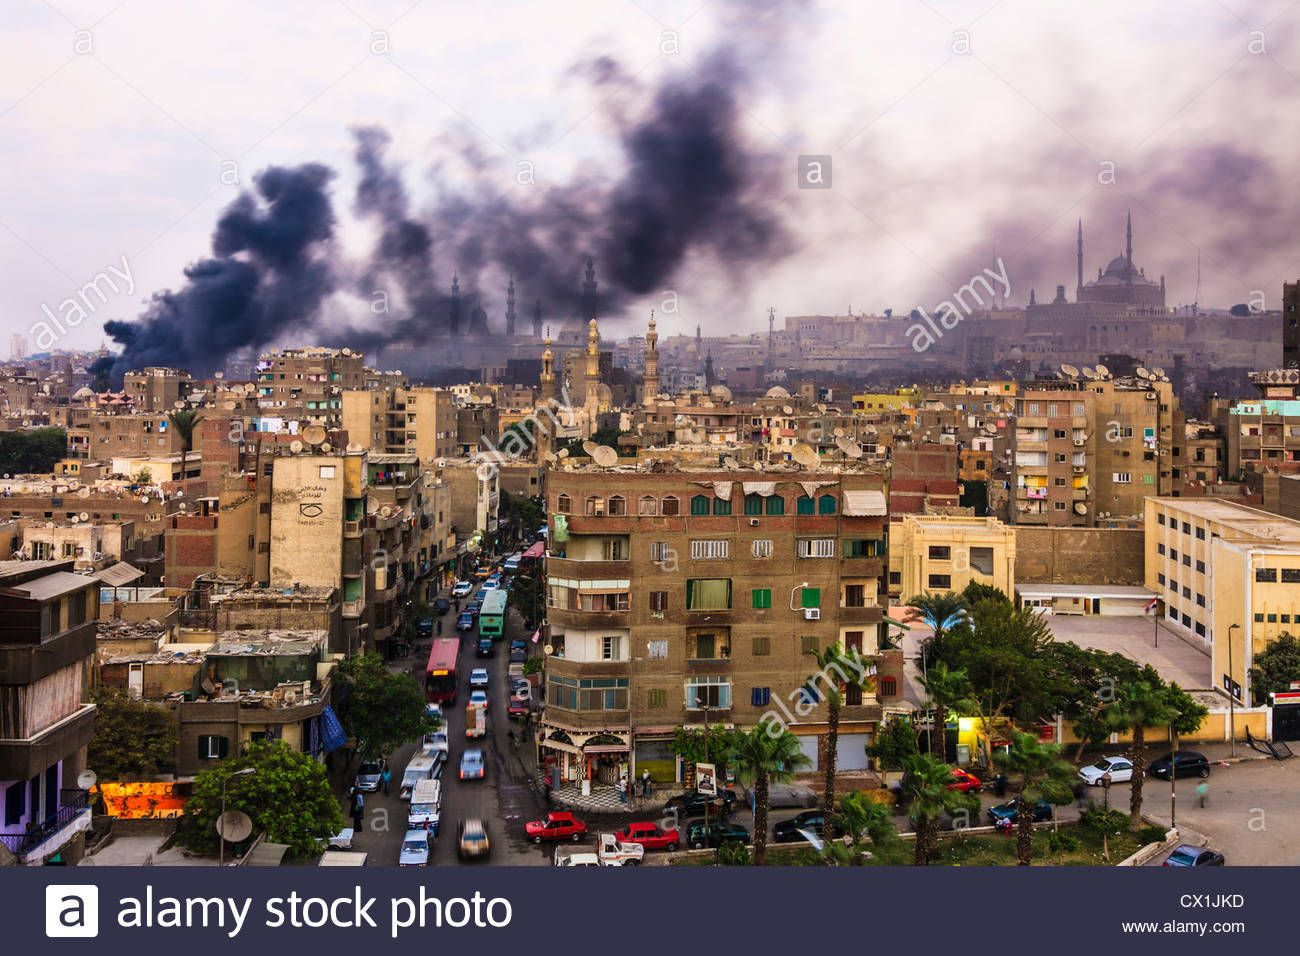smoke: (912, 129, 1263, 366), (377, 99, 759, 306), (135, 186, 363, 345)
